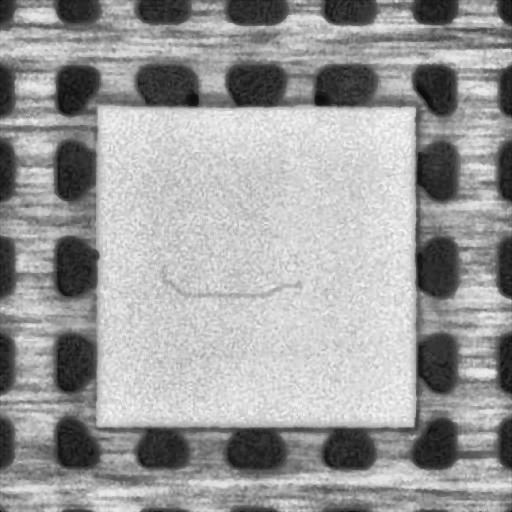DIE_CRACK: (162, 269, 304, 297)
